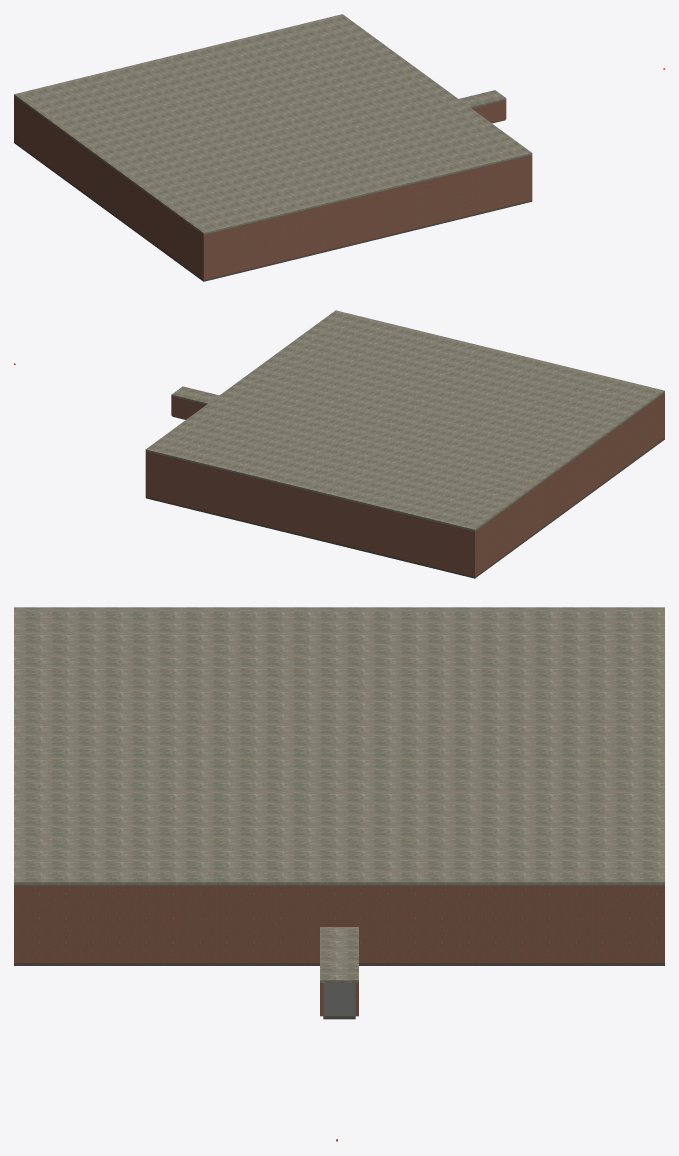
Rendered from zone_radio.glb.
The picture shows the model from 3 angles, top to bottom: view 1: azimuth 30°, elevation 25°; view 2: azimuth 150°, elevation 25°; view 3: azimuth 270°, elevation 25°; orthographic projection. The views are drawn at different scales.
Parts seen in each view (by area): view 1: RAD_ceil_slab, RAD_shell_walls, RAD_shell_floor, RAD_shell_corridor; view 2: RAD_ceil_slab, RAD_shell_walls, RAD_shell_floor, RAD_shell_corridor; view 3: RAD_ceil_slab, RAD_shell_walls, RAD_shell_floor, RAD_shell_corridor.
Part boxes in pixels (left/top/right/bottom): RAD_ceil_slab: left=14, top=14, right=532, bottom=234; RAD_shell_walls: left=14, top=96, right=532, bottom=279; RAD_shell_floor: left=14, top=141, right=532, bottom=281; RAD_shell_corridor: left=472, top=100, right=506, bottom=123; RAD_ceil_slab: left=145, top=310, right=664, bottom=531; RAD_shell_walls: left=145, top=392, right=664, bottom=576; RAD_shell_floor: left=145, top=438, right=664, bottom=578; RAD_shell_corridor: left=171, top=396, right=205, bottom=419; RAD_ceil_slab: left=14, top=607, right=664, bottom=982; RAD_shell_walls: left=14, top=885, right=664, bottom=962; RAD_shell_floor: left=14, top=963, right=664, bottom=965; RAD_shell_corridor: left=320, top=983, right=358, bottom=1019.
Bounding box in the file's own units: 102 × 8.6 × 60.6.
Materials: 25 (11 with a texture image).
